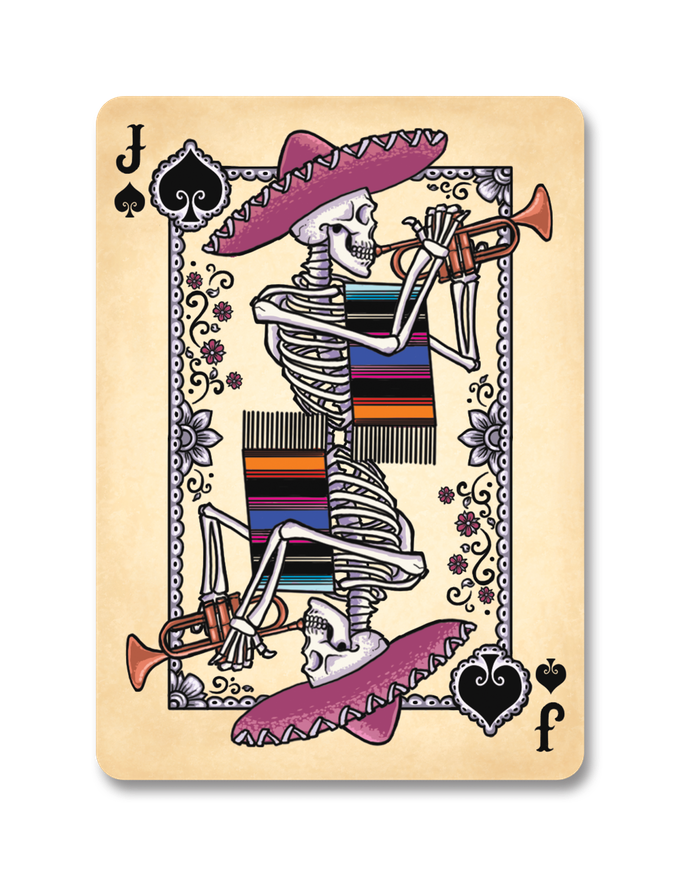jack of spades: (91, 100, 582, 781)
